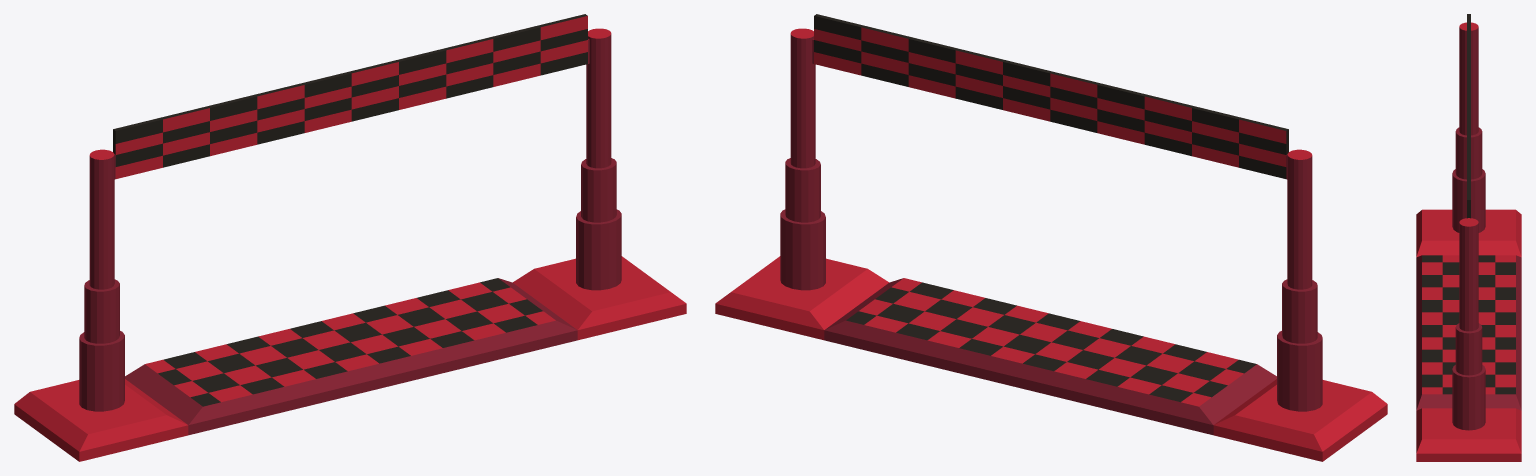
The model's file is Prop_Goal.obj.
The picture shows the model from 3 angles, left to right: view 1: azimuth 30°, elevation 25°; view 2: azimuth 150°, elevation 25°; view 3: azimuth 270°, elevation 25°; orthographic projection. The views are drawn at different scales.
Parts seen in each view (by area): view 1: Goalpost; view 2: Goalpost; view 3: Goalpost.
Part boxes in pixels (x1,y1,x2,y2): Goalpost: (14, 14, 686, 461); Goalpost: (715, 14, 1387, 461); Goalpost: (1416, 14, 1521, 461).
Size of the model in its own units: 9.7 by 4.45 by 1.8.
1 material, 1 textured.
